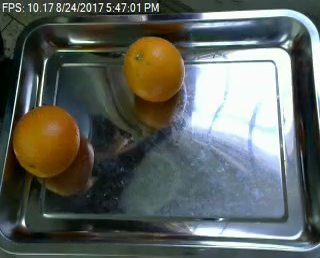Orange: (11, 105, 81, 178), (123, 36, 184, 102)
